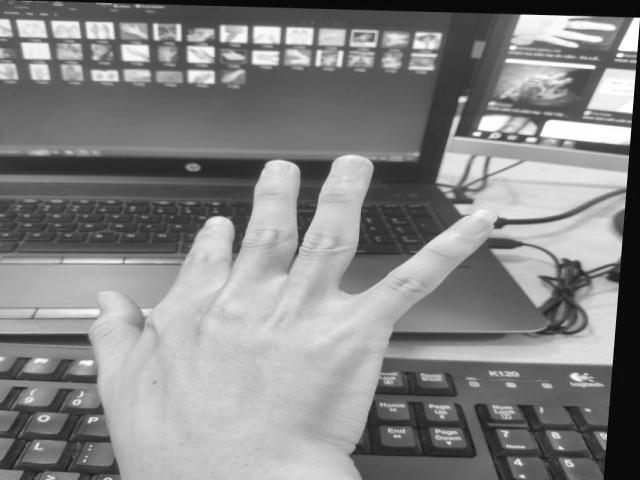not-gloved: (85, 158, 493, 480)
